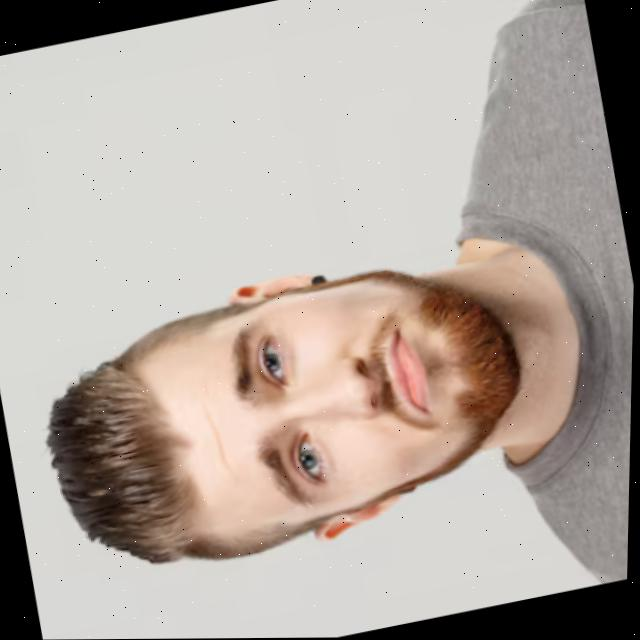sad: (199, 262, 493, 527)
